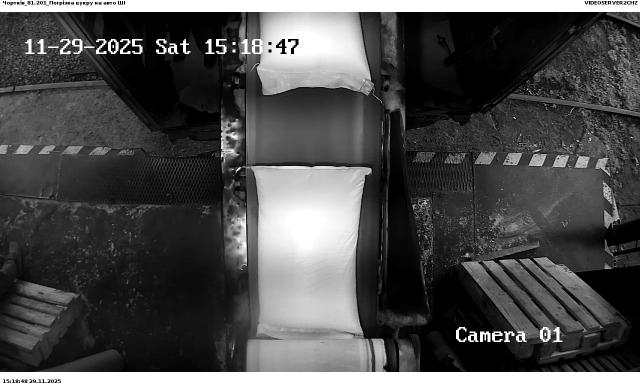bag: (248, 166, 372, 337), (256, 12, 374, 95)
